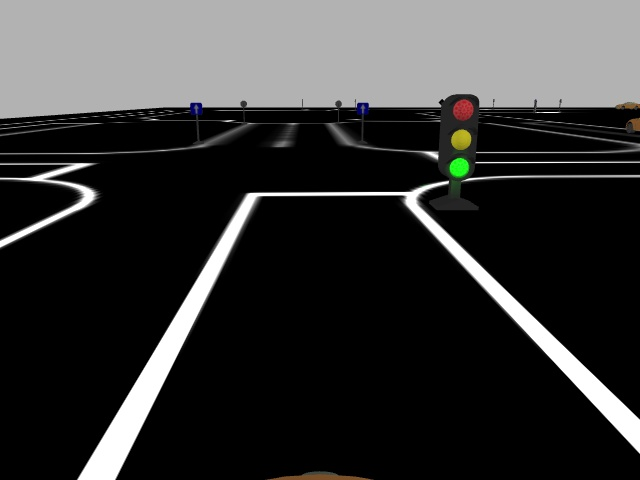green_light: (435, 92, 481, 183)
oneway: (188, 102, 204, 116), (355, 102, 369, 116)
